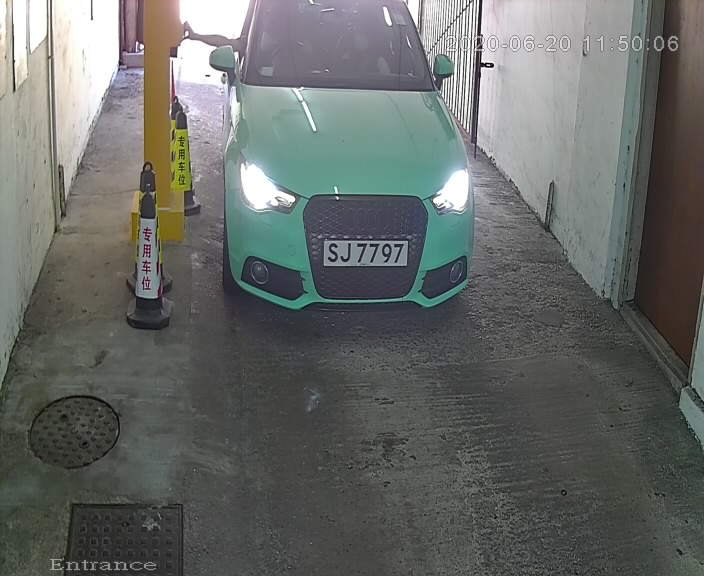privatecar: (206, 3, 482, 334)
